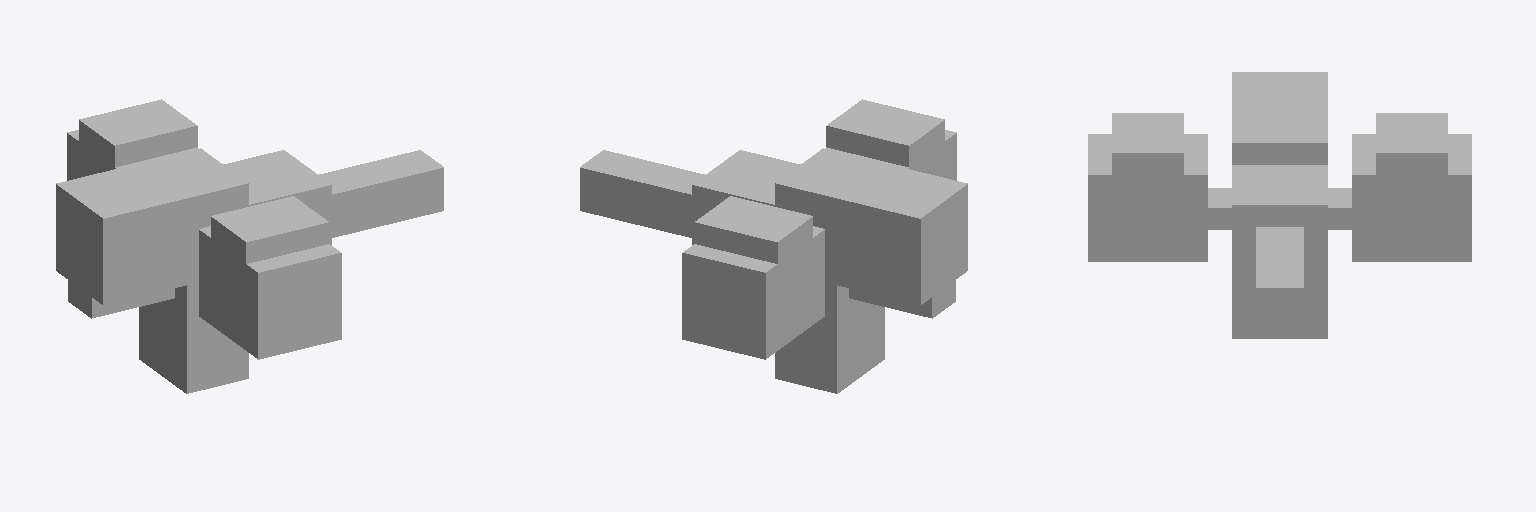
Rendered from head.obj.
The picture shows the model from 3 angles: view 1: azimuth 30°, elevation 25°; view 2: azimuth 150°, elevation 25°; view 3: azimuth 270°, elevation 25°; orthographic projection.
Parts seen in each view (by area): view 1: object 1; view 2: object 1; view 3: object 1.
Part boxes in pixels (x1,y1,x2,y2): object 1: (56, 99, 443, 393); object 1: (580, 99, 967, 393); object 1: (1088, 72, 1471, 338).
Size of the model in its own units: 1.7 by 0.9 by 1.6.